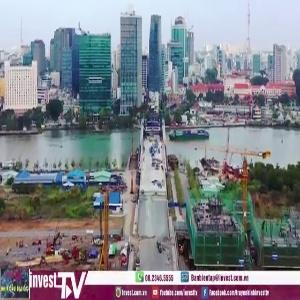drone: (115, 82, 172, 139)
